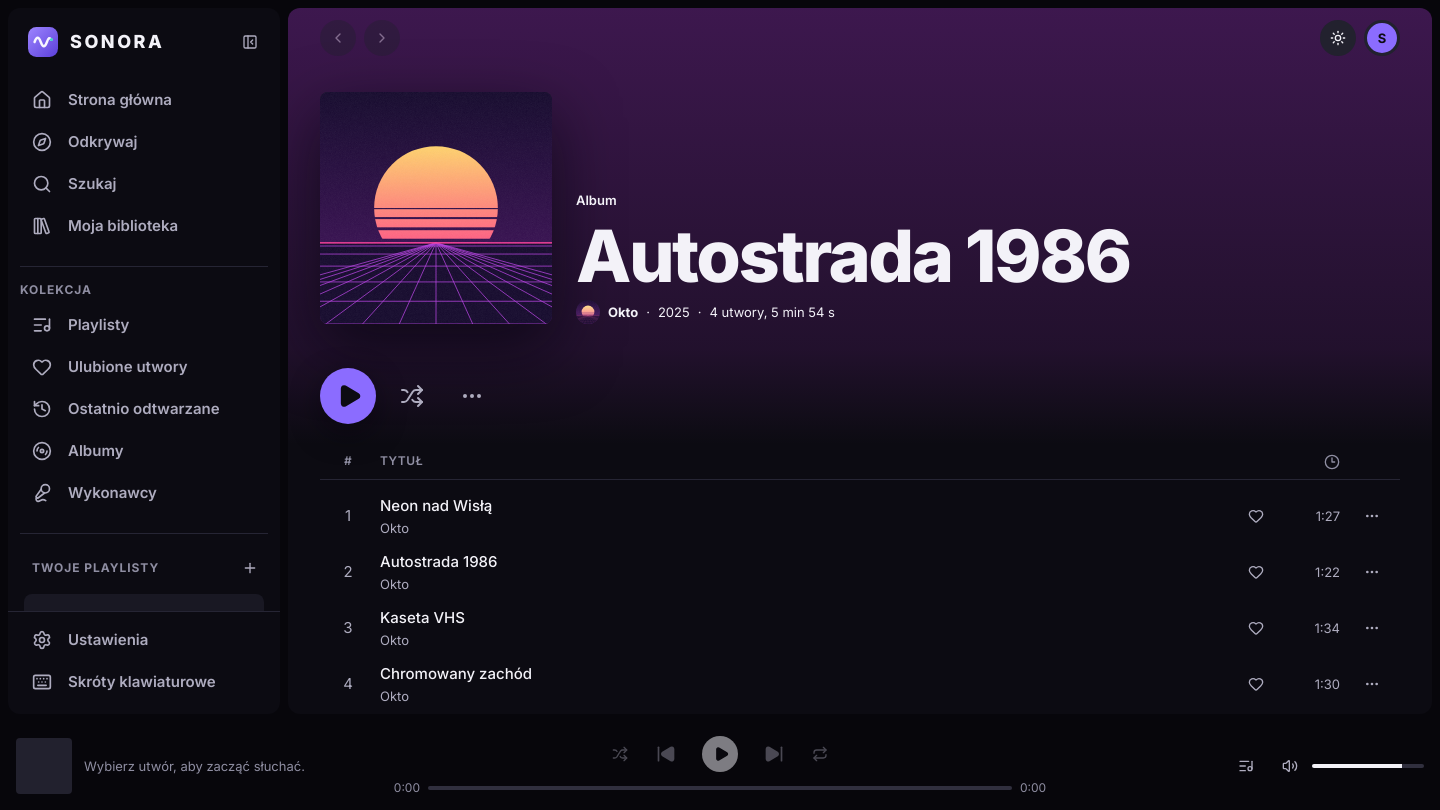
odtwarzacz › przechodzi do następnego utworu i automatycznie po zakończeniu bieżącego
This screenshot has width=1440, height=810.
Click the button named "Odtwórz: Autostrada 1986": [348, 396] box [320,368,376,424]
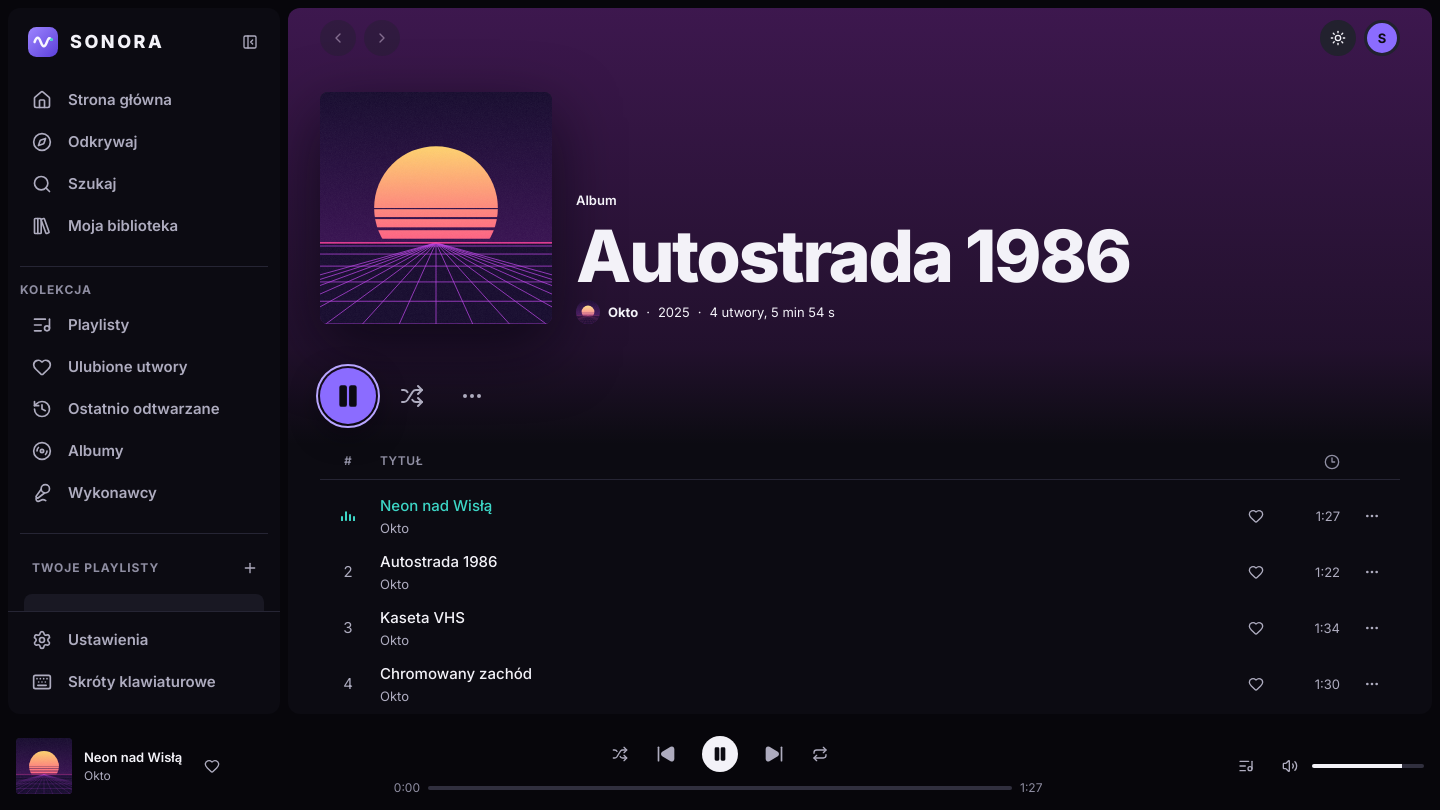
Click the button named "Następny": [774, 754] box [754,734,794,774]
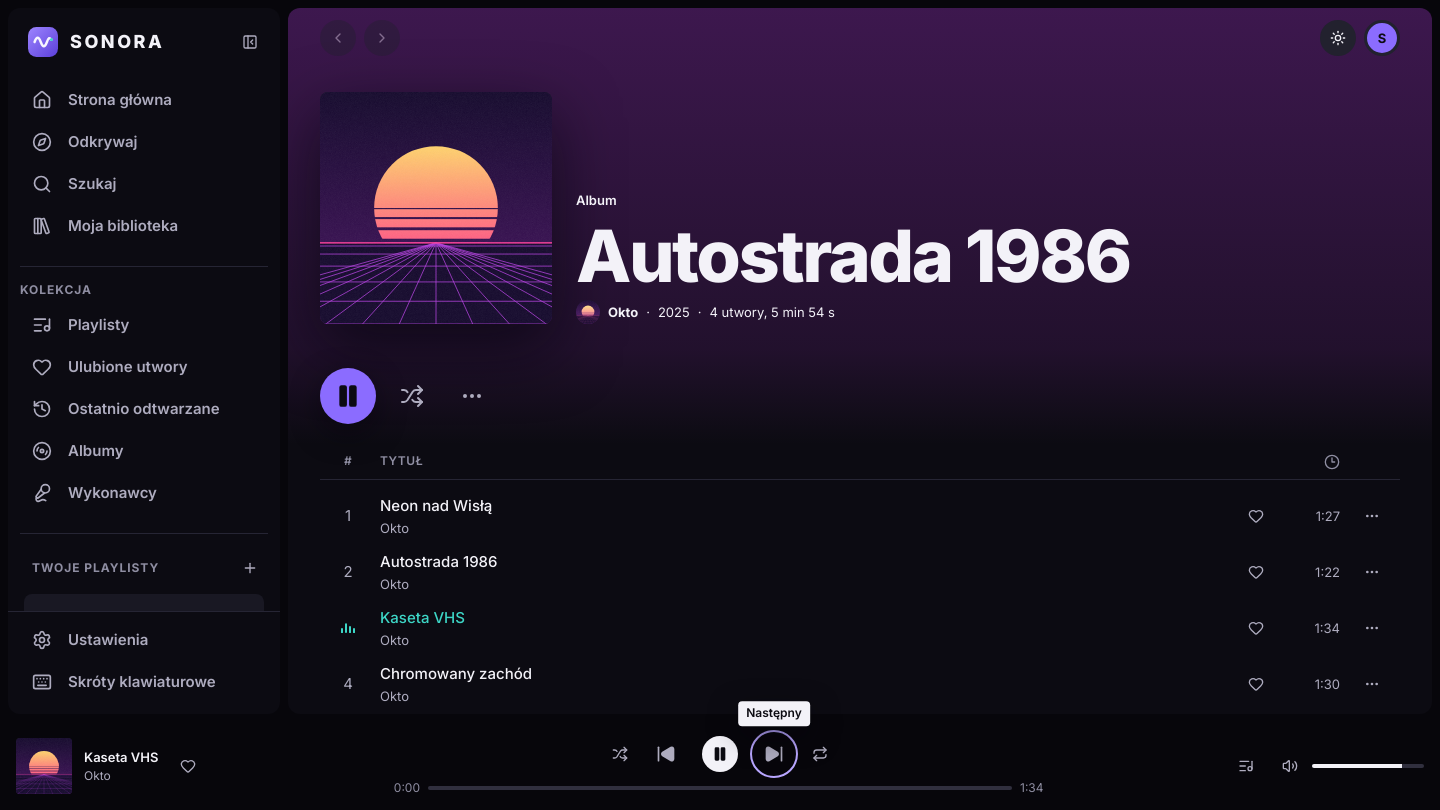
Expected: the link "Kaseta VHS" is shown, [84,747,158,767]
